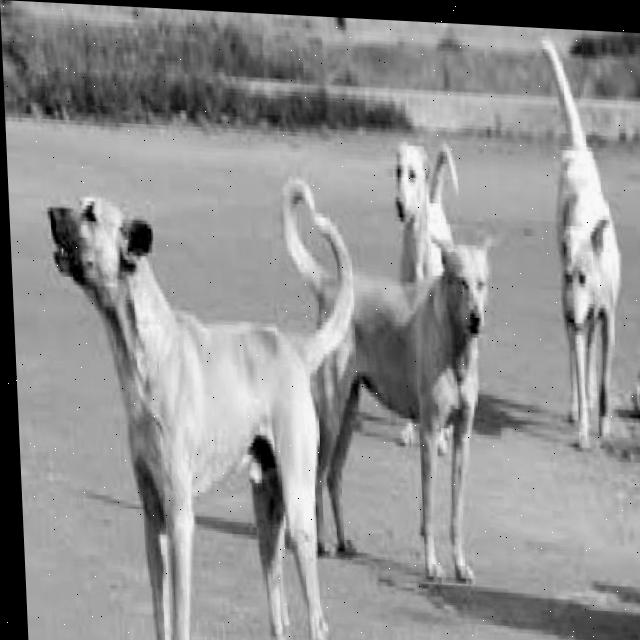Dog: (41, 138, 371, 640), (275, 150, 511, 598), (527, 27, 640, 470), (387, 109, 470, 320)
